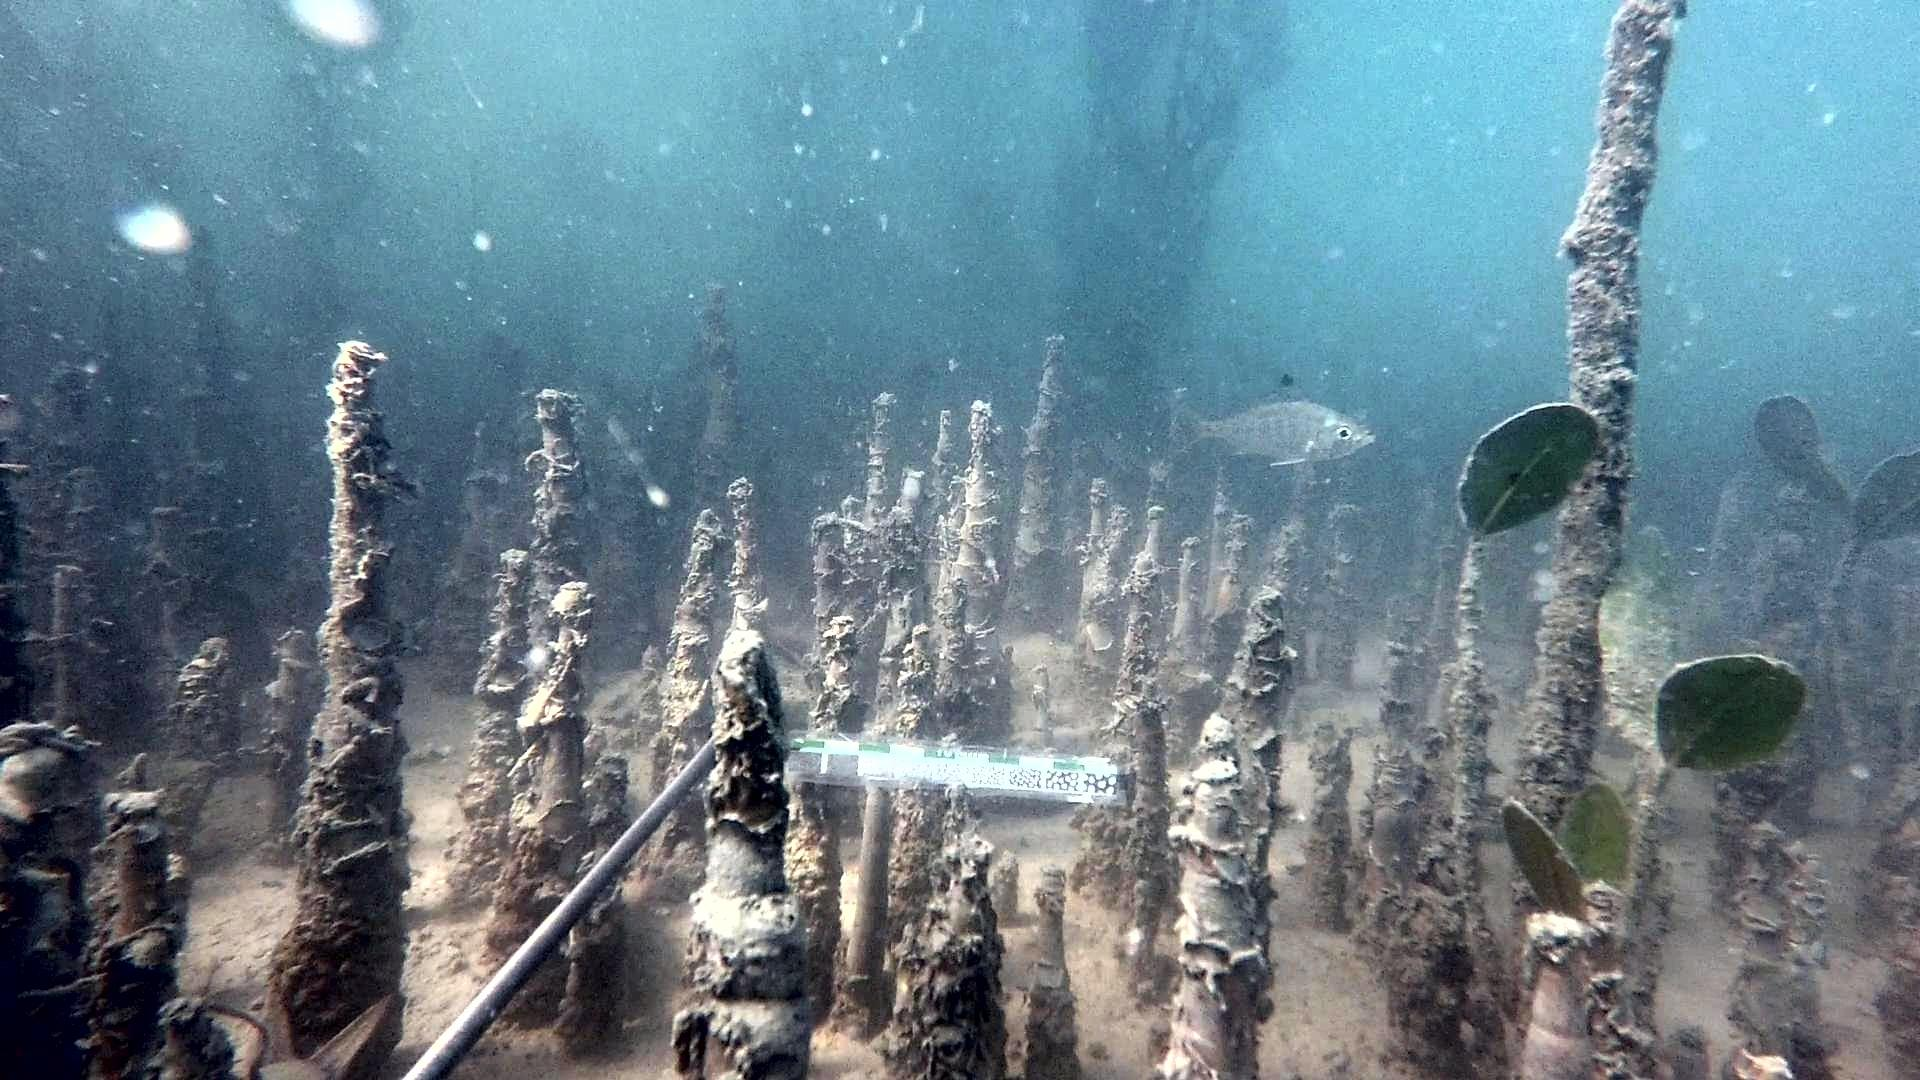gerres: (1162, 372, 1378, 469)
